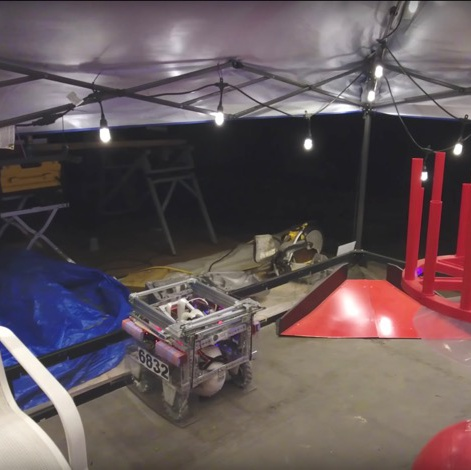robot: (120, 272, 266, 426)
yogaball: (407, 416, 471, 470)
